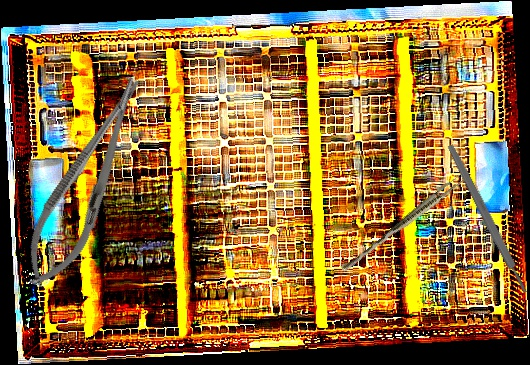Needle Holder: (10, 67, 162, 298)
Scalpel Handle: (445, 143, 530, 295)
Tissue Forceps: (339, 170, 467, 277)
